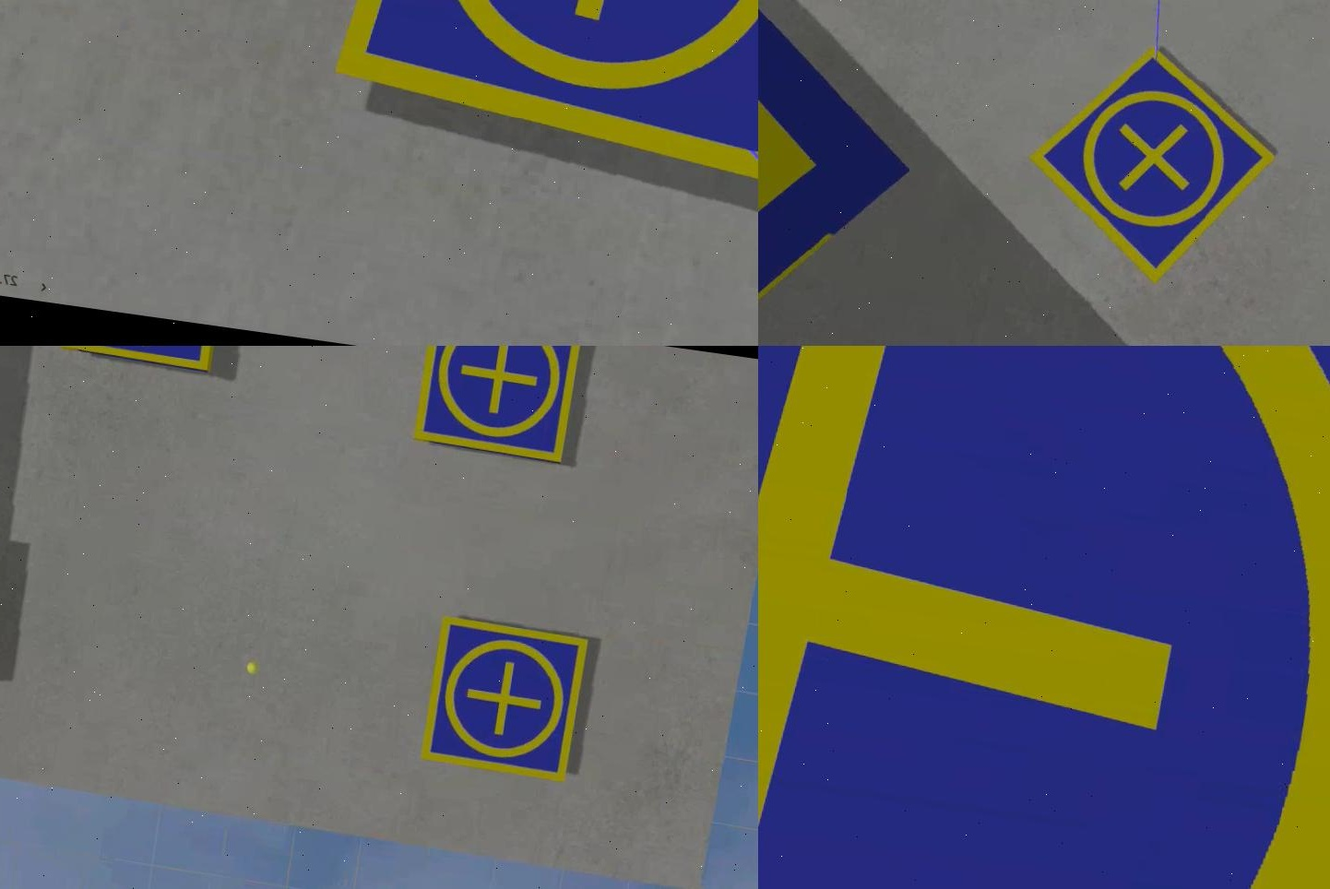large_base: (756, 1, 944, 347)
small_base: (756, 347, 1328, 889), (326, 1, 756, 190), (1012, 33, 1287, 301), (414, 615, 587, 786), (409, 347, 582, 465), (53, 347, 224, 371)
